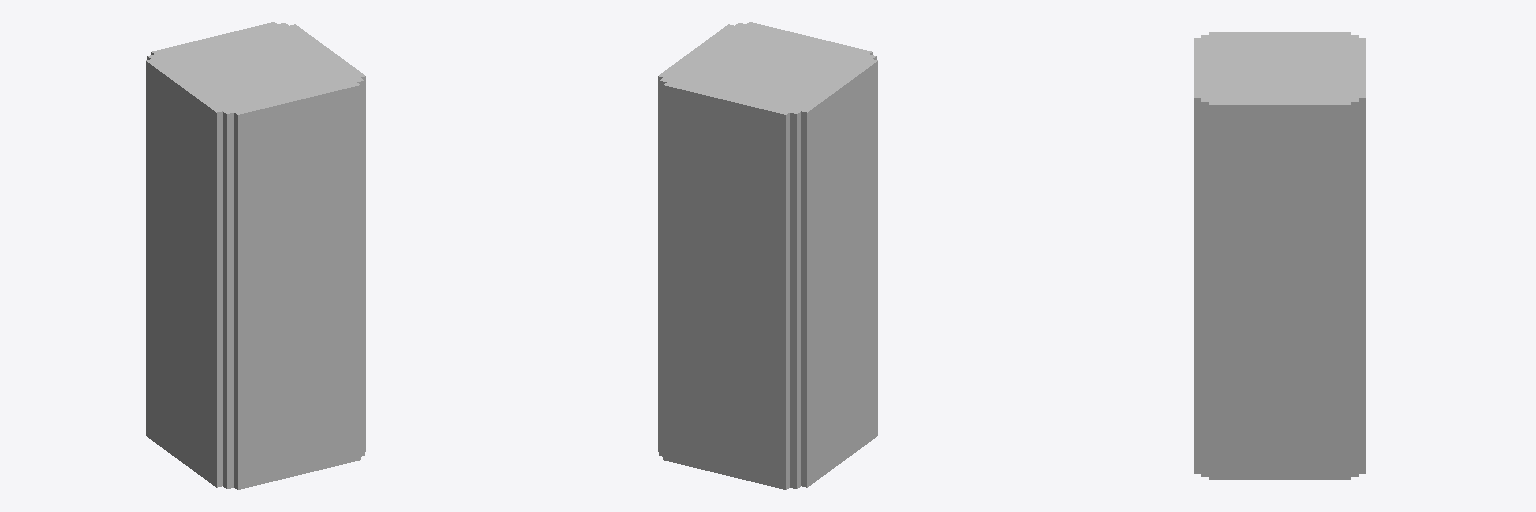
Rendered from skyscraper6.obj.
The picture shows the model from 3 angles: view 1: azimuth 30°, elevation 25°; view 2: azimuth 150°, elevation 25°; view 3: azimuth 270°, elevation 25°; orthographic projection.
Parts seen in each view (by area): view 1: skyscraper_6; view 2: skyscraper_6; view 3: skyscraper_6.
Boxes of the visible parts, x1,y1,x2,y2 form: skyscraper_6: [146, 22, 365, 489]; skyscraper_6: [658, 22, 877, 489]; skyscraper_6: [1194, 32, 1365, 479].
Bounding box in the file's own units: 227 × 544 × 227.